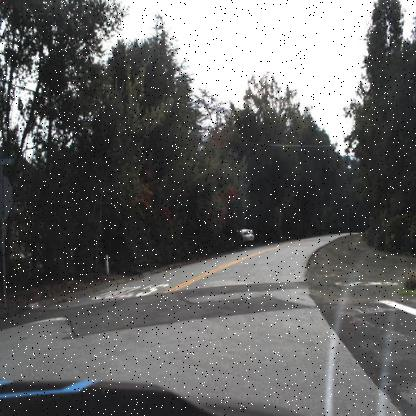car: (232, 216, 260, 248), (239, 226, 257, 245)
